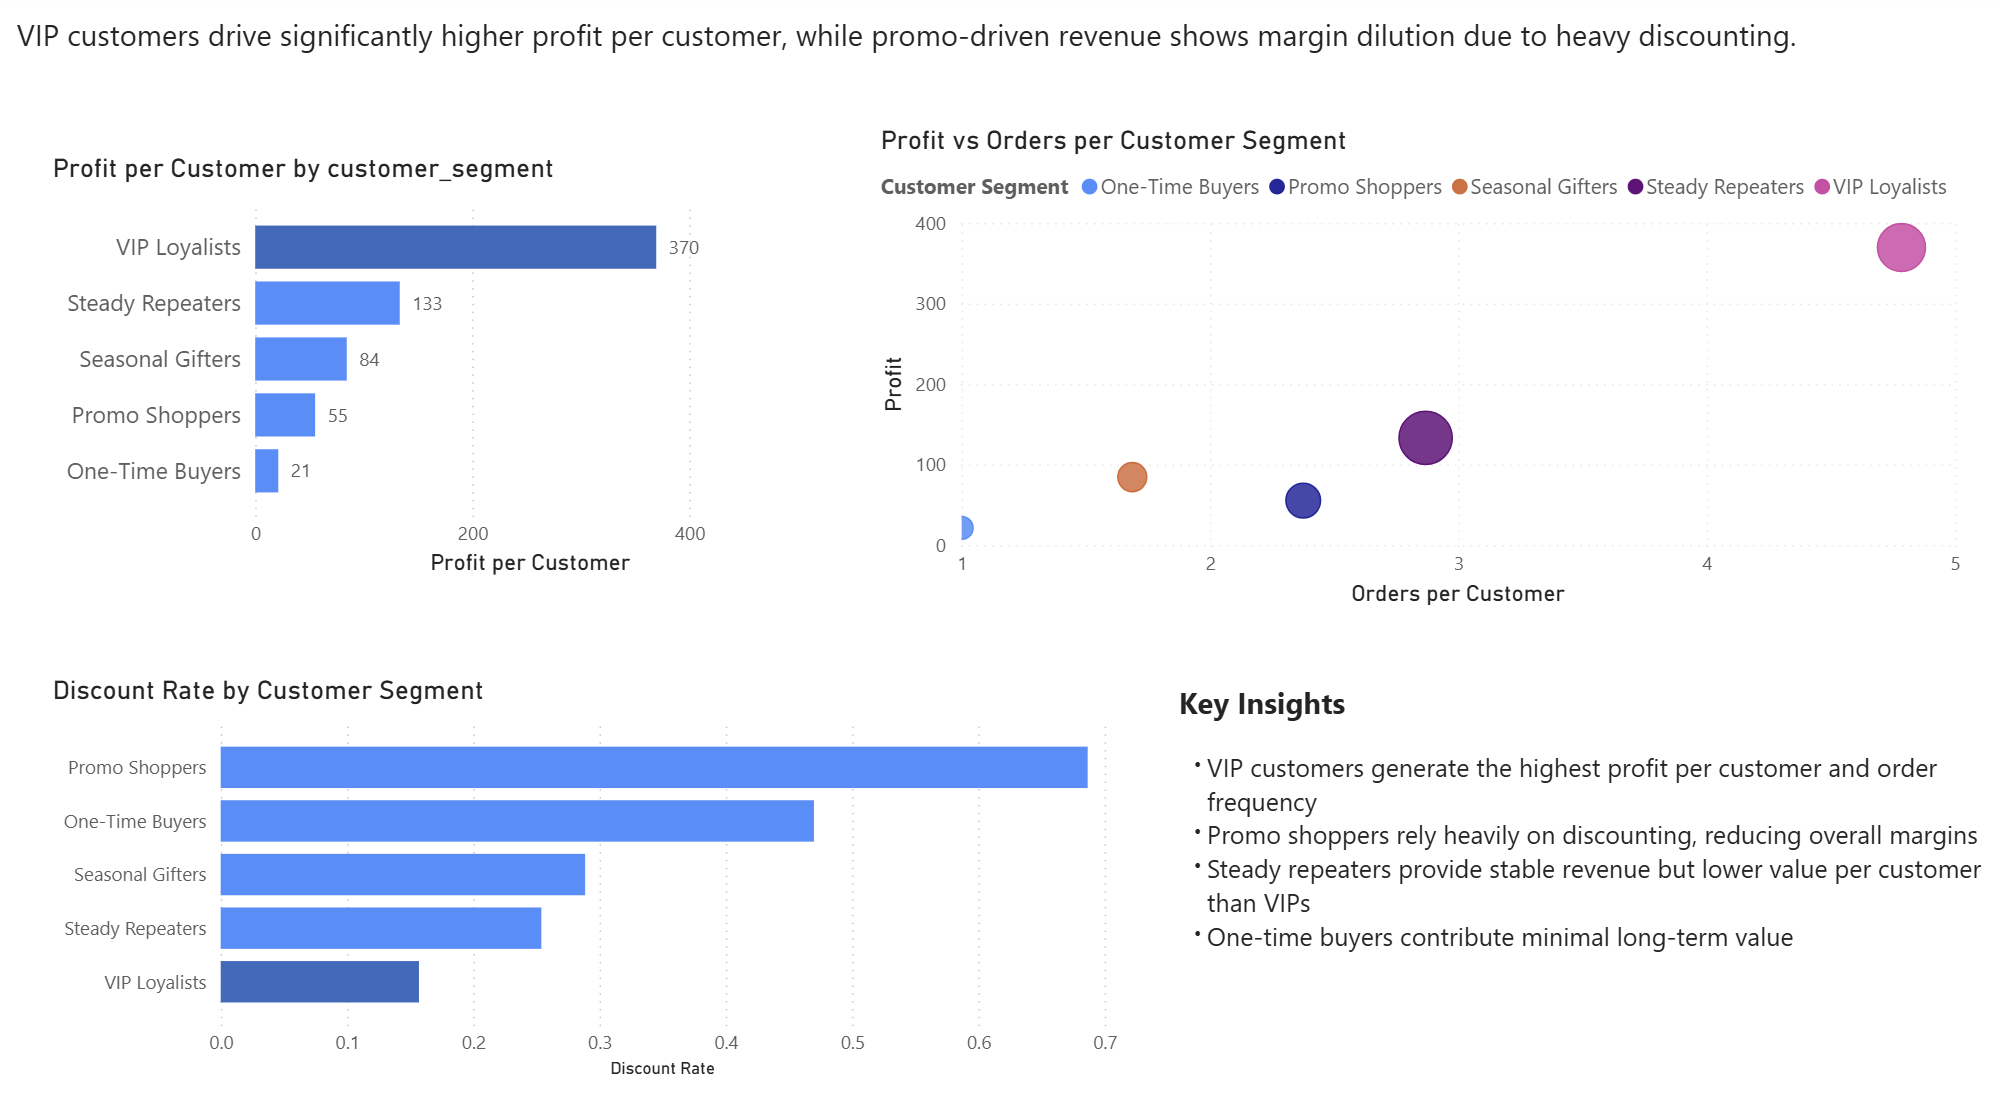

This screenshot's page, from the dashboard's own definition file:
{"tool":"powerbi","page":{"name":"Customer Segmentation","canvas":[1280,720],"ordinal":1},"visuals":[{"type":"textbox","box":[11.5,10.2,1161.4,93.1],"z":0},{"type":"barChart","fields":{"Category":["orders.customer_segment"],"Y":["orders.Profit per Customer"]},"box":[34.4,103.3,499.8,274.1],"z":1000},{"type":"scatterChart","title":"Profit vs Orders per Customer Segment","fields":{"X":["orders.Orders per Customer"],"Y":["orders.Profit per Customer"],"Size":["orders.Total Revenue"],"Series":["orders.customer_segment"]},"box":[562.2,85.4,698.6,311.1],"z":2000},{"type":"barChart","title":"Discount Rate  by Customer Segment","fields":{"Category":["orders.customer_segment"],"Y":["orders.Discount Rate V2"]},"box":[34.4,436,688.4,261.4],"z":3000},{"type":"textbox","box":[752.2,436,527.8,261.4],"z":4000}]}

Visuals, with their boxes in screenshot pixels (x1, y1, x2, y2), scaled from the page's 1280x720 canvas onto the 1997x1108 screenshot:
textbox: (18,16,1830,159)
barChart - orders.customer_segment x orders.Profit per Customer: (54,159,833,581)
"Profit vs Orders per Customer Segment" scatterChart: (877,131,1967,610)
"Discount Rate  by Customer Segment" barChart: (54,671,1128,1073)
textbox: (1174,671,1996,1073)
